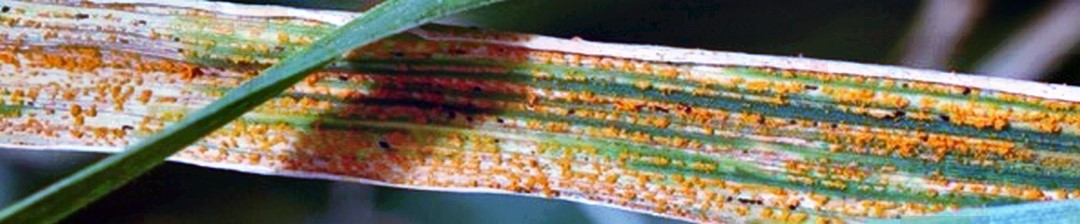Leaf Rust: (8, 11, 983, 224)
